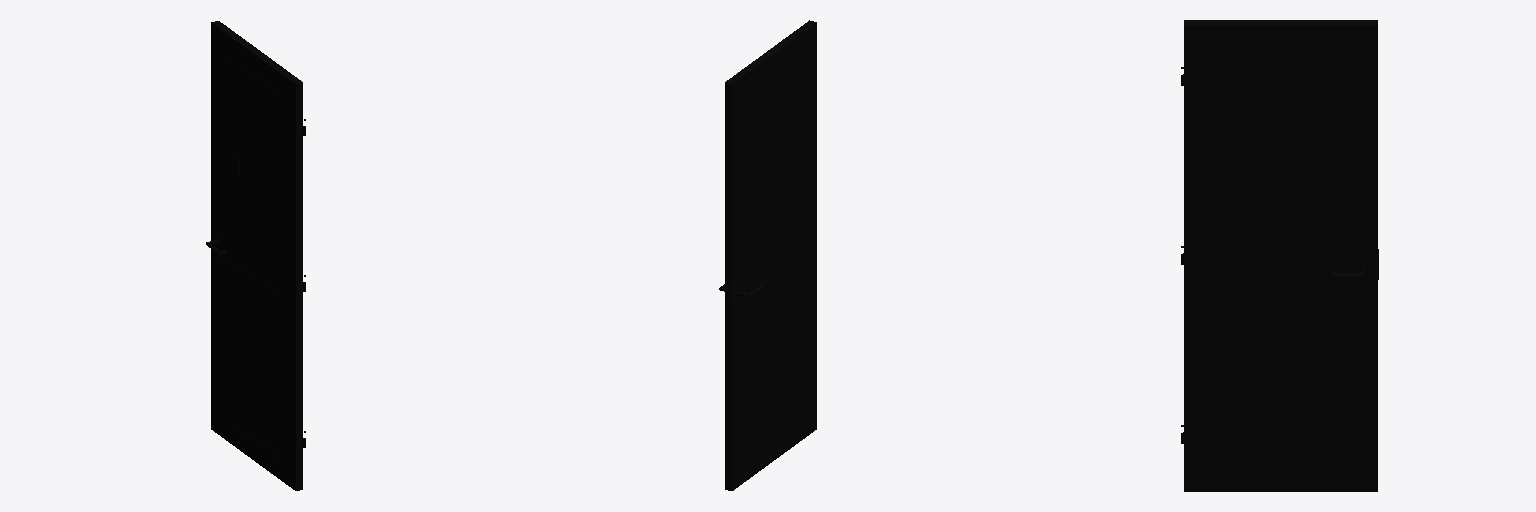
The robot description file, URDF, robot "nova_environment_object_0035":
<?xml version="1.0" encoding="utf-8"?>
<!-- Nova movable environment body for the bundled PyBullet launcher. SI metres/kg/radians. Loaded at its body origin; hinge/slider bodies use a fixed world_anchor base with one passive joint. Inertia is about COM. -->
<robot name="nova_environment_object_0035">
  <link name="world_anchor">
    <inertial>
      <mass value="0" />
      <inertia ixx="0" iyy="0" izz="0" ixy="0" ixz="0" iyz="0" />
    </inertial>
  </link>
  <joint name="joint" type="revolute">
    <parent link="world_anchor" />
    <child link="body" />
    <origin xyz="0 0 0" rpy="0 0 0" />
    <axis xyz="0 0 -1" />
    <limit lower="0" upper="1.57" effort="1000" velocity="10" />
    <dynamics damping="0.6" friction="0.3" />
  </joint>
  <link name="body">
    <inertial>
      <origin xyz="-0.026 0.4 0" rpy="0 0 0" />
      <mass value="18" />
      <inertia ixx="7.4647695" iyy="6.5357535" izz="0.933816" ixy="0" ixz="0" iyz="0" />
    </inertial>
    <visual>
      <origin xyz="0 0 0" rpy="0 0 0" />
      <geometry>
        <mesh filename="object_0035.obj" />
      </geometry>
      <material name="surface">
        <color rgba="0.07 0.07 0.07 1" />
      </material>
    </visual>
    <collision>
      <origin xyz="0 0 0" rpy="0 0 0" />
      <geometry>
        <mesh filename="object_0035_collision_00.obj" />
      </geometry>
    </collision>
    <collision>
      <origin xyz="0 0 0" rpy="0 0 0" />
      <geometry>
        <mesh filename="object_0035_collision_01.obj" />
      </geometry>
    </collision>
    <collision>
      <origin xyz="0 0 0" rpy="0 0 0" />
      <geometry>
        <mesh filename="object_0035_collision_02.obj" />
      </geometry>
    </collision>
  </link>
</robot>

--- Facts derived from the render (not from the file) ---
The picture shows the robot from 3 angles, left to right: view 1: azimuth 30°, elevation 25°; view 2: azimuth 150°, elevation 25°; view 3: azimuth 270°, elevation 25°; orthographic projection.
Robot: nova_environment_object_0035 — 2 links, 1 joints (1 revolute); root link world_anchor; default pose: all joints at 0.
Links seen in each view (by area): view 1: body; view 2: body; view 3: body.
Boxes of the visible links, x1=… form: body: x1=206, y1=21, x2=305, y2=490; body: x1=719, y1=20, x2=816, y2=490; body: x1=1181, y1=20, x2=1378, y2=491.
Size in the robot's own frame: 0.169 by 0.8005 by 2.09 metres.
Meshes: 1 distinct files referenced, 1 mesh visuals loaded (1 OBJ).
